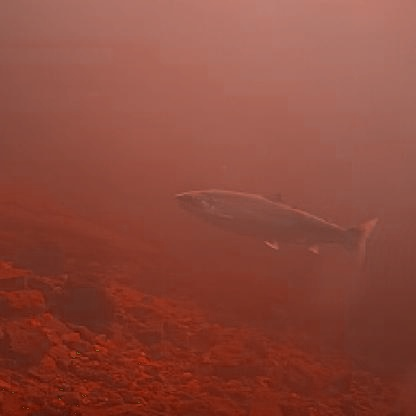salmon: (172, 180, 380, 269)
